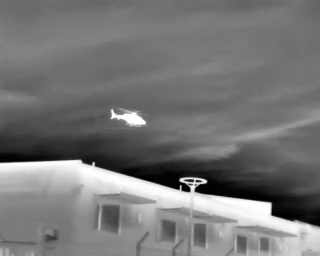HELICOPTER: (108, 102, 153, 133)
